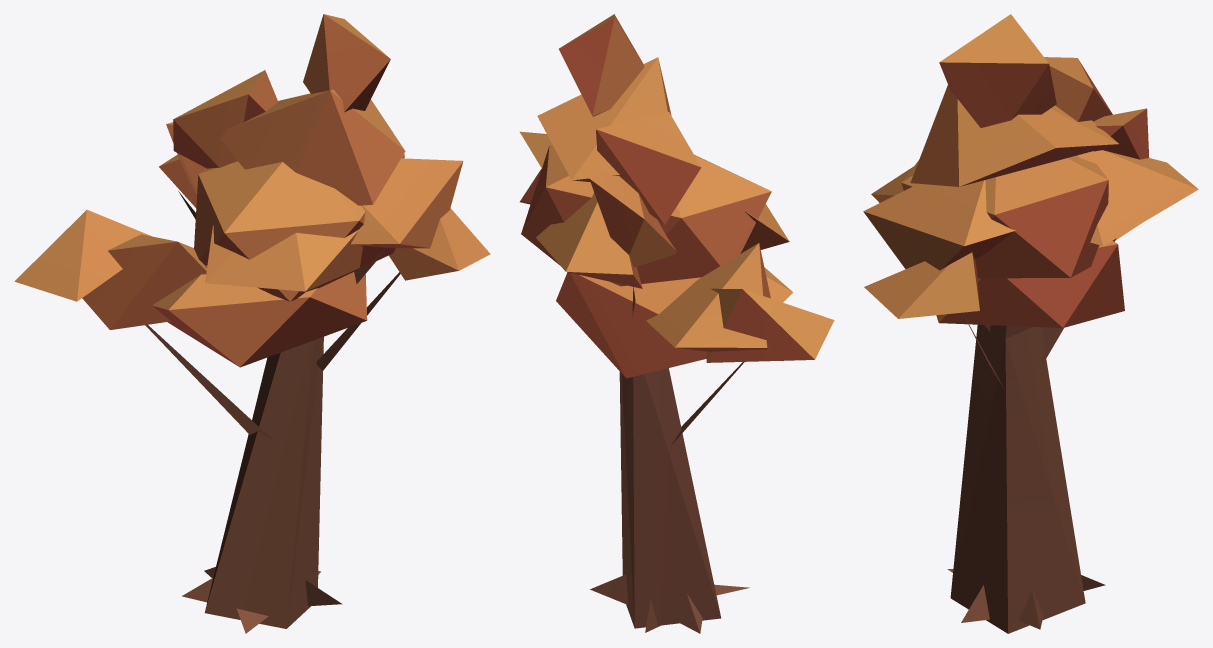
The picture shows the model from 3 angles, left to right: view 1: azimuth 30°, elevation 25°; view 2: azimuth 150°, elevation 25°; view 3: azimuth 270°, elevation 25°; orthographic projection. The views are drawn at different scales.
Visible parts, largest first — view 1: WK_RegularTree_EmberMaple_LOD2_Compact; view 2: WK_RegularTree_EmberMaple_LOD2_Compact; view 3: WK_RegularTree_EmberMaple_LOD2_Compact.
Part boxes in pixels (x1,y1,x2,y2): WK_RegularTree_EmberMaple_LOD2_Compact: [14, 14, 490, 633]; WK_RegularTree_EmberMaple_LOD2_Compact: [520, 14, 834, 633]; WK_RegularTree_EmberMaple_LOD2_Compact: [863, 14, 1198, 633].
Bounding box in the file's own units: 4.36 × 6.55 × 3.17.
